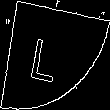L_N: (37, 27, 73, 83)
